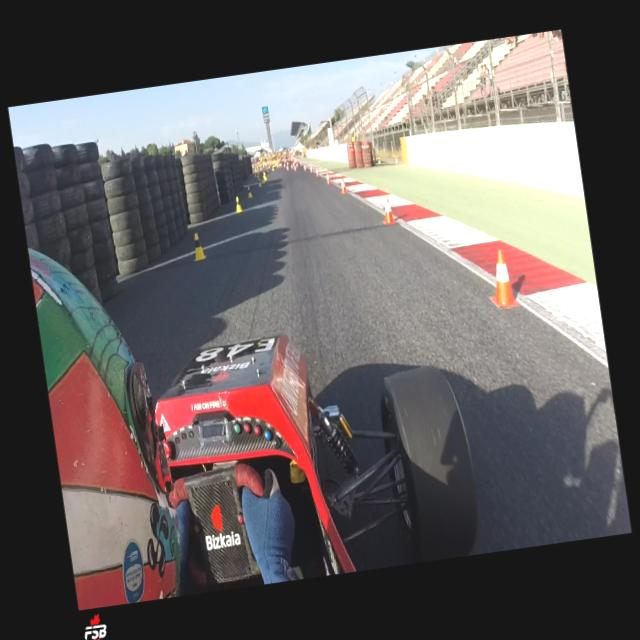orange_cone: (485, 248, 520, 308), (380, 197, 396, 225), (339, 180, 346, 193), (326, 173, 330, 184), (316, 168, 320, 176)
yellow_cone: (191, 232, 207, 261), (234, 196, 242, 214), (246, 186, 252, 198), (258, 178, 262, 188), (261, 174, 265, 183), (263, 174, 267, 182)
